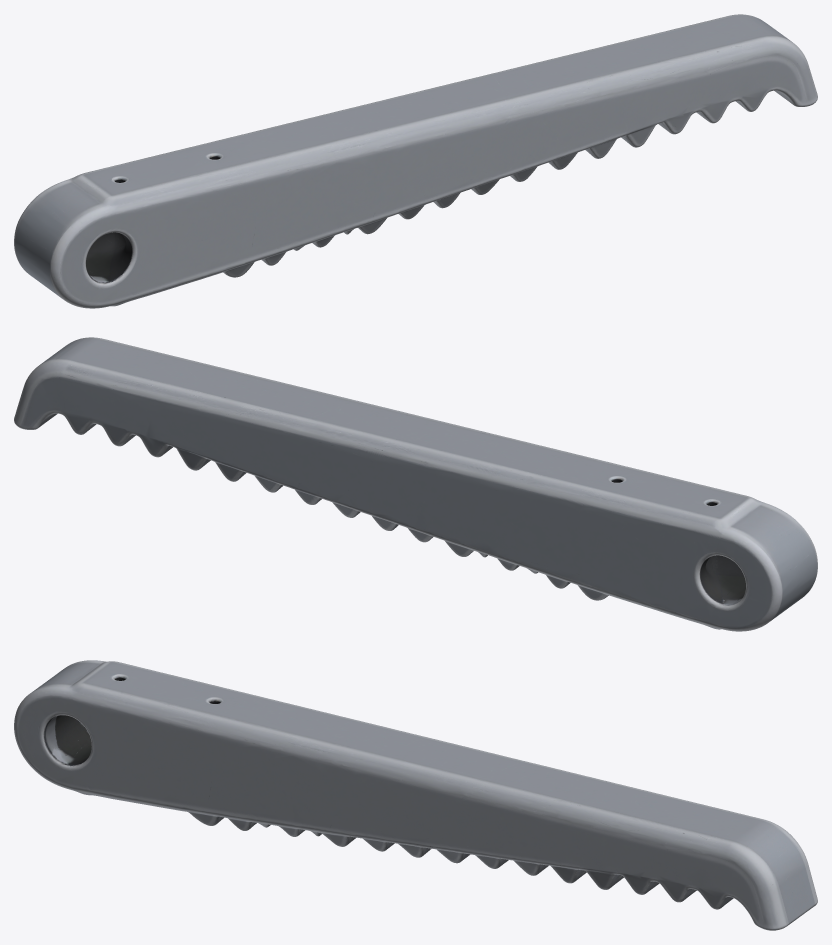
File: Meshy_AI_Serrated_Metal_Blade_20261107_texture.fbx
3 views of the same model, one above another, from view 1: azimuth 30°, elevation 25°; view 2: azimuth 150°, elevation 25°; view 3: azimuth 330°, elevation 25° (orthographic).
Visible parts, largest first — view 1: Mesh_0; view 2: Mesh_0; view 3: Mesh_0.
Part boxes in pixels (x1,y1,x2,y2): Mesh_0: (14,14,817,308); Mesh_0: (14,337,817,631); Mesh_0: (14,660,817,930).
Size of the model in its own units: 190 by 26.57 by 18.58.
1 material, 1 textured.
